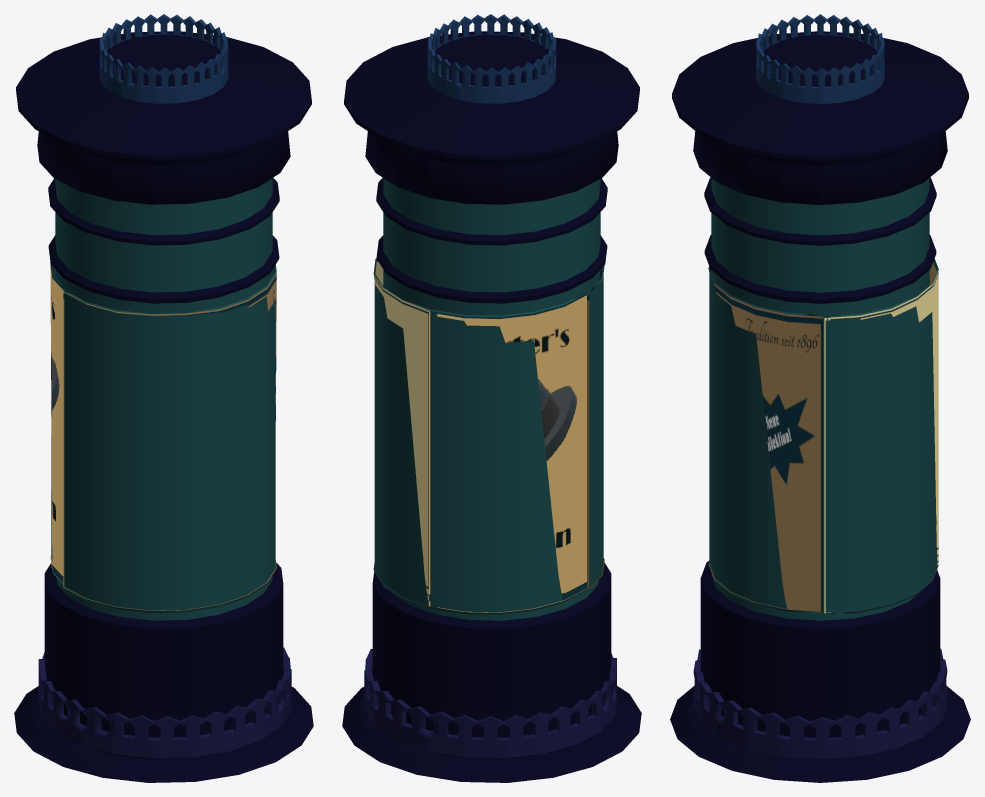
File: Litfaßsäule mit Plakat.fbx
The picture shows the model from 3 angles, left to right: view 1: azimuth 30°, elevation 25°; view 2: azimuth 150°, elevation 25°; view 3: azimuth 270°, elevation 25°; orthographic projection.
Visible parts, largest first — view 1: pPipe3, pasted__pPipe4, pasted__pPipe5; view 2: pPipe3, pasted__pPipe5, pasted__pPipe4; view 3: pPipe3, pasted__pPipe5, pasted__pPipe4.
Part boxes in pixels (box(x1,y1,x2,y2)): pPipe3: box(14, 14, 313, 782); pasted__pPipe4: box(63, 264, 276, 613); pasted__pPipe5: box(50, 262, 65, 584); pPipe3: box(342, 14, 641, 782); pasted__pPipe5: box(373, 258, 586, 614); pasted__pPipe4: box(587, 265, 604, 590); pPipe3: box(670, 14, 970, 782); pasted__pPipe5: box(824, 258, 938, 615); pasted__pPipe4: box(708, 266, 822, 613).
Size of the model in its own units: 241 by 606 by 241.
Materials: 7 (3 with a texture image).
